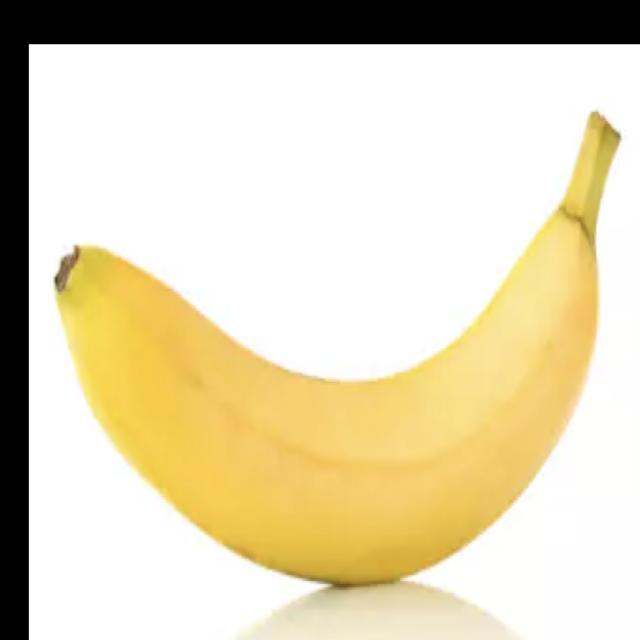Banana: (52, 109, 622, 587)
